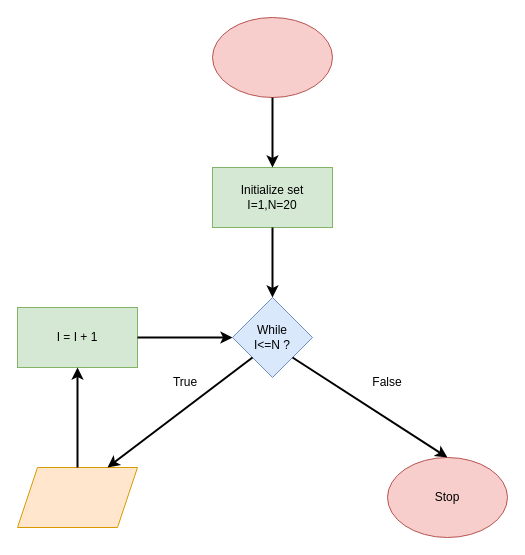
This 525x555 diagram has some shape labels left out. The shapes that lost their labels are listed below. From the top down, each one's centre as x and y in pixels, then its label:
At [272,57]: "Start".
At [77,497]: "Print I".
